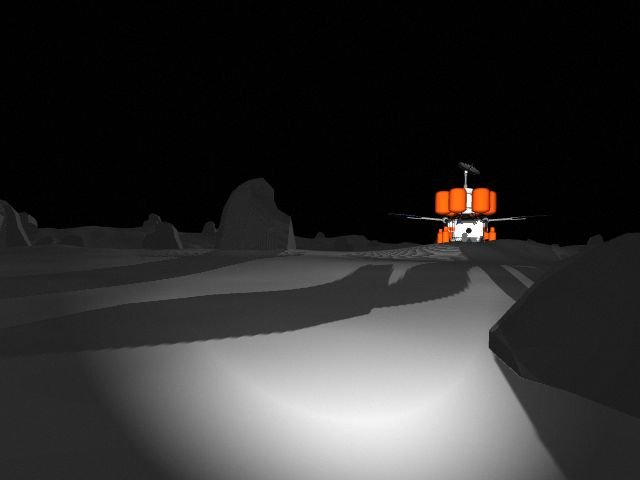homebase: (382, 160, 541, 258)
